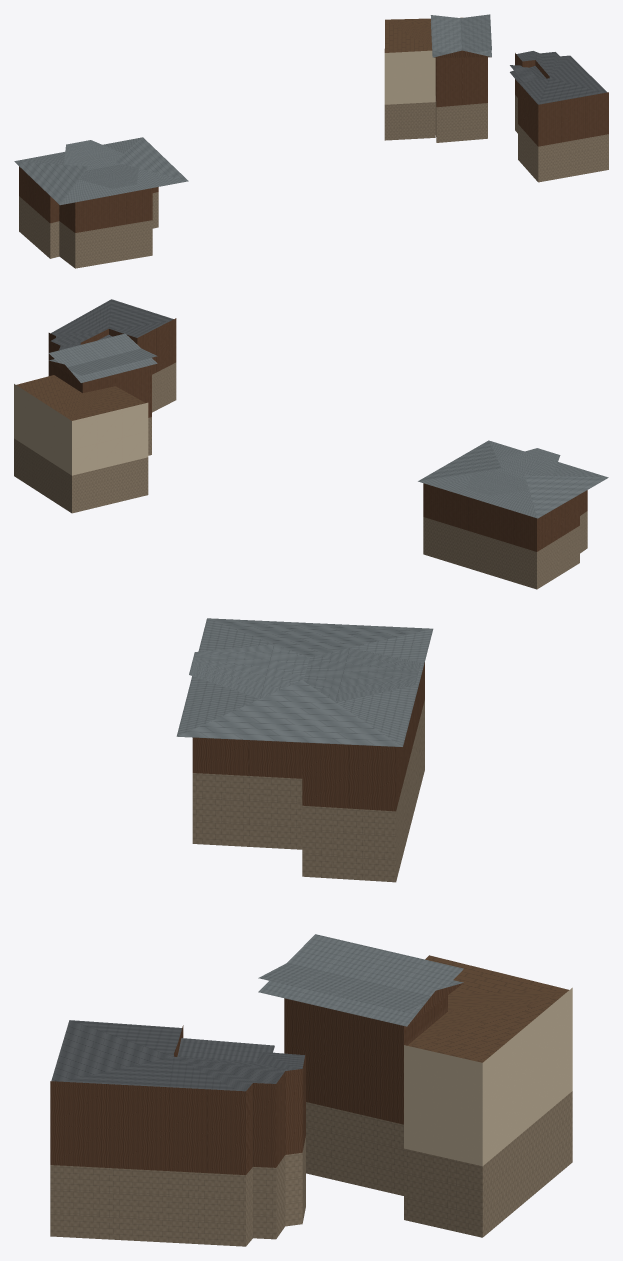
The model's file is bld_c38_36_292.gltf.
The picture shows the model from 3 angles, top to bottom: view 1: azimuth 30°, elevation 25°; view 2: azimuth 150°, elevation 25°; view 3: azimuth 270°, elevation 25°; orthographic projection. The views are drawn at different scales.
Parts seen in each view (by area): view 1: bld_c38_36_292; view 2: bld_c38_36_292; view 3: bld_c38_36_292.
Part boxes in pixels (x1,y1,x2,y2): bld_c38_36_292: (14,14,608,268); bld_c38_36_292: (14,299,608,589); bld_c38_36_292: (50,618,572,1246).
Size of the model in its own units: 77.67 by 15.2 by 33.77.
Materials: 8 (8 with a texture image).
